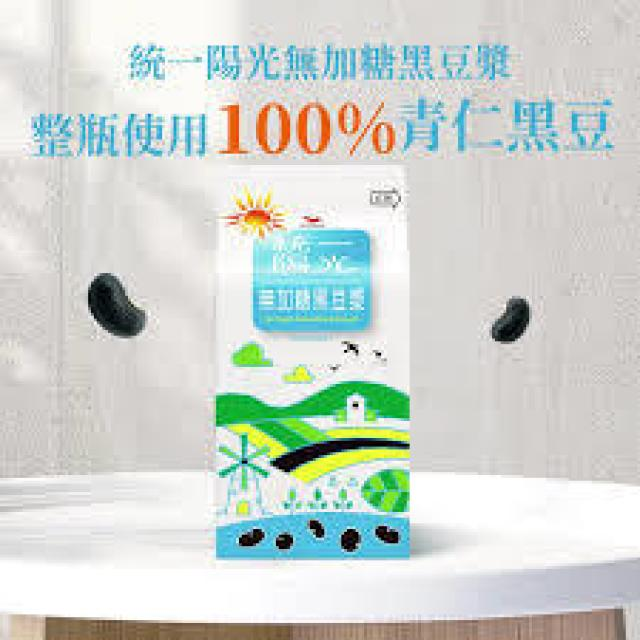TongYi_UnsweetenedBlackSoyMilk: (214, 165, 408, 556)
